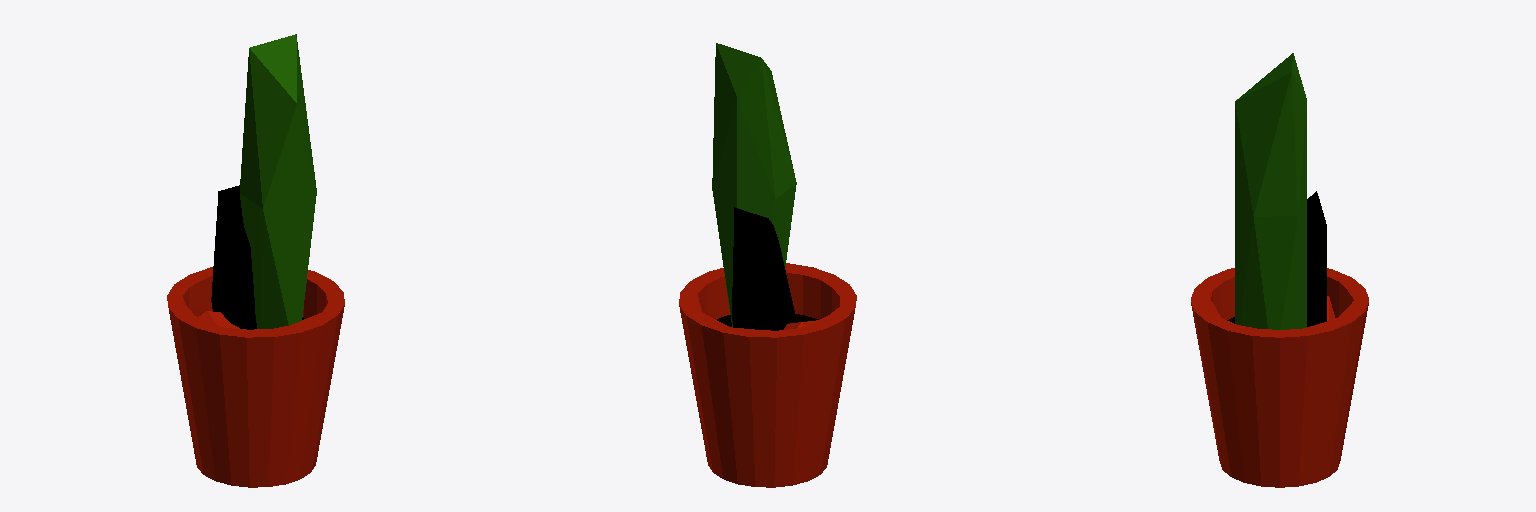
Rendered from Cactus_Plant_RA.obj.
3 renders of one model, left to right at view 1: azimuth 30°, elevation 25°; view 2: azimuth 150°, elevation 25°; view 3: azimuth 270°, elevation 25°, orthographic.
Visible parts, largest first — view 1: Cactus_Plant_RA:polySurface5 polySurface5; view 2: Cactus_Plant_RA:polySurface5 polySurface5; view 3: Cactus_Plant_RA:polySurface5 polySurface5.
Part boxes in pixels (x1,y1,x2,y2): Cactus_Plant_RA:polySurface5 polySurface5: (167, 34, 344, 487); Cactus_Plant_RA:polySurface5 polySurface5: (679, 43, 856, 487); Cactus_Plant_RA:polySurface5 polySurface5: (1191, 53, 1368, 487).
Bounding box in the file's own units: 2 × 5.08 × 2.